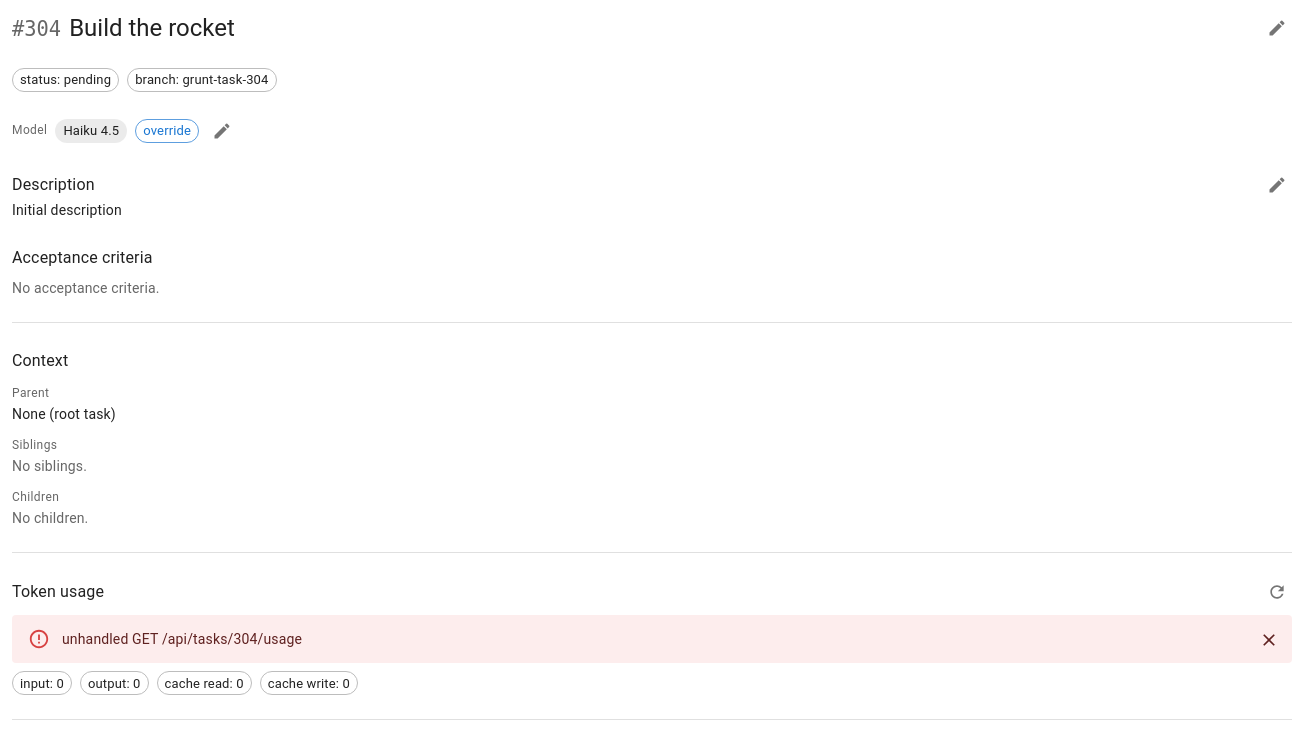
Scenario: TaskDetailPage › PATCHes model:null when the user clears the per-task override
The image size is (1304, 732).
Expected: the element with test id "task-detail-model-source" reads "override", x1=143 y1=123 x2=191 y2=138
Click the button named "edit model" at (222, 131), box x1=207 y1=116 x2=237 y2=146
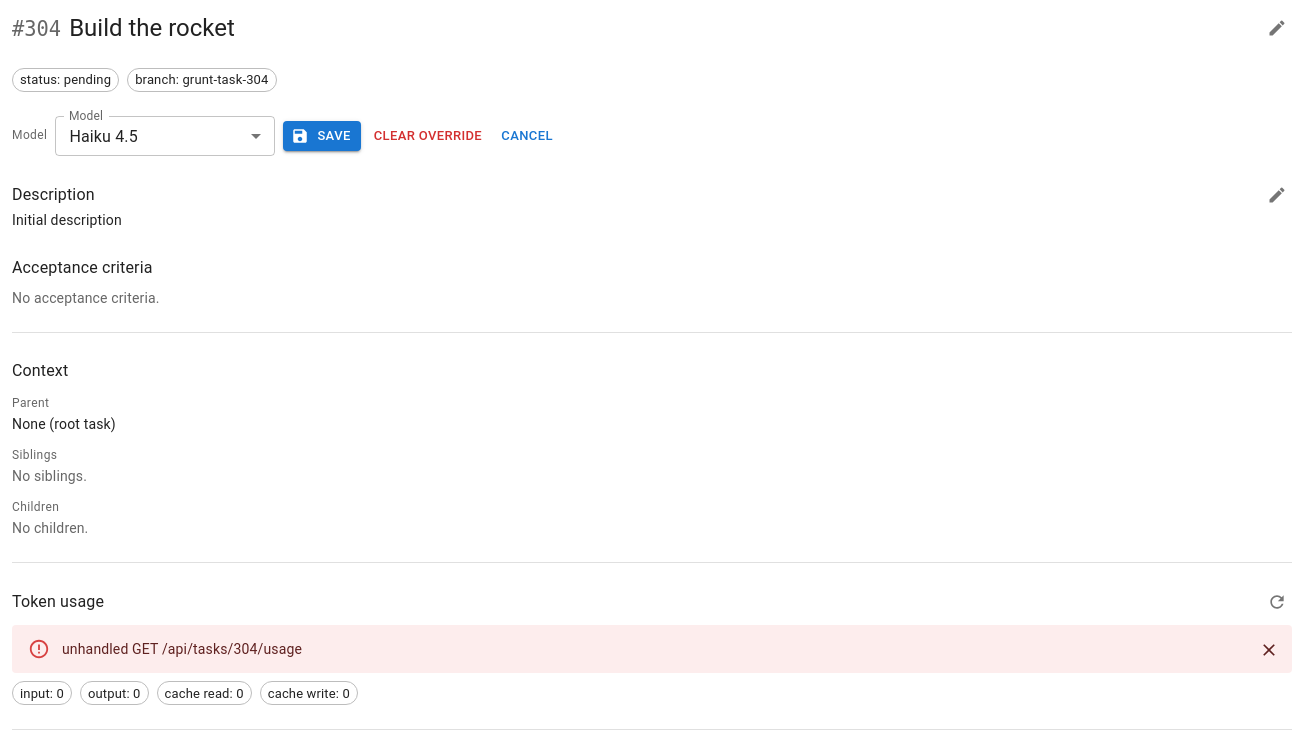
Click the button with test id "task-detail-model-clear" at (428, 136), box x1=369 y1=121 x2=487 y2=151
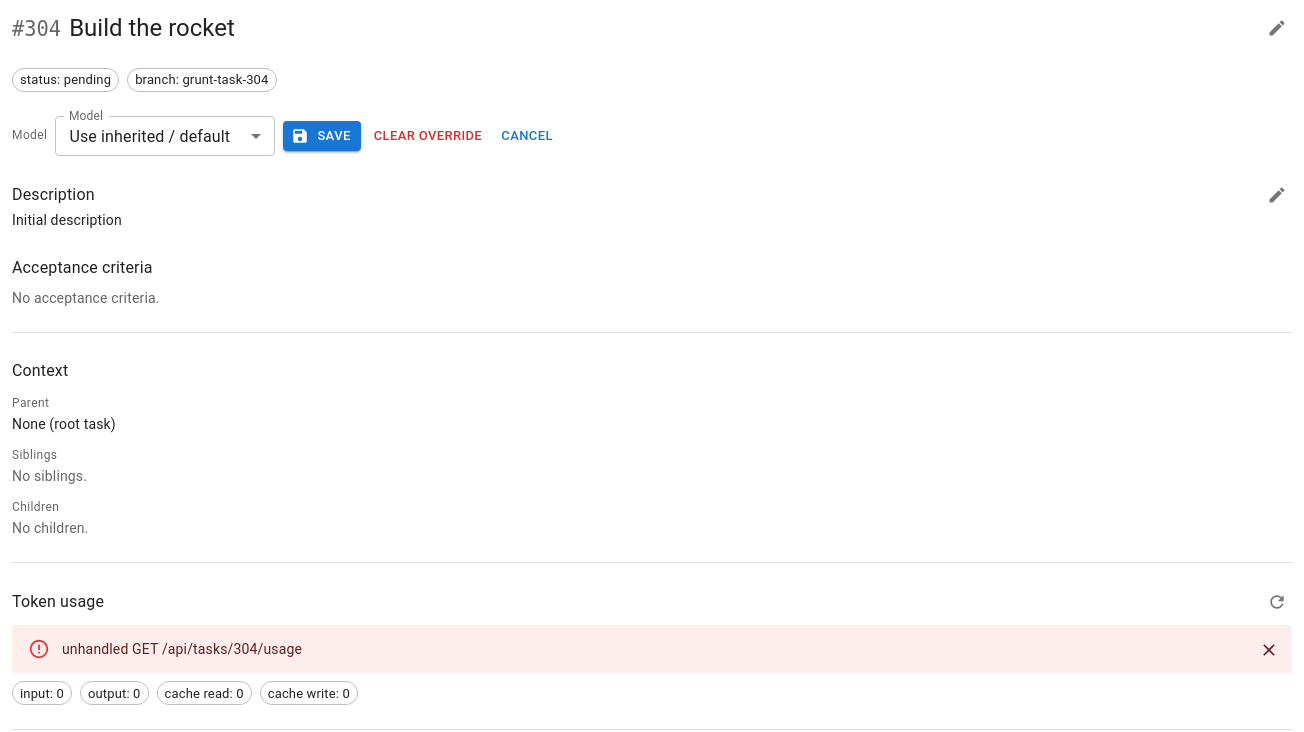
Click the button with test id "task-detail-model-save" at (322, 136), box x1=283 y1=121 x2=361 y2=151
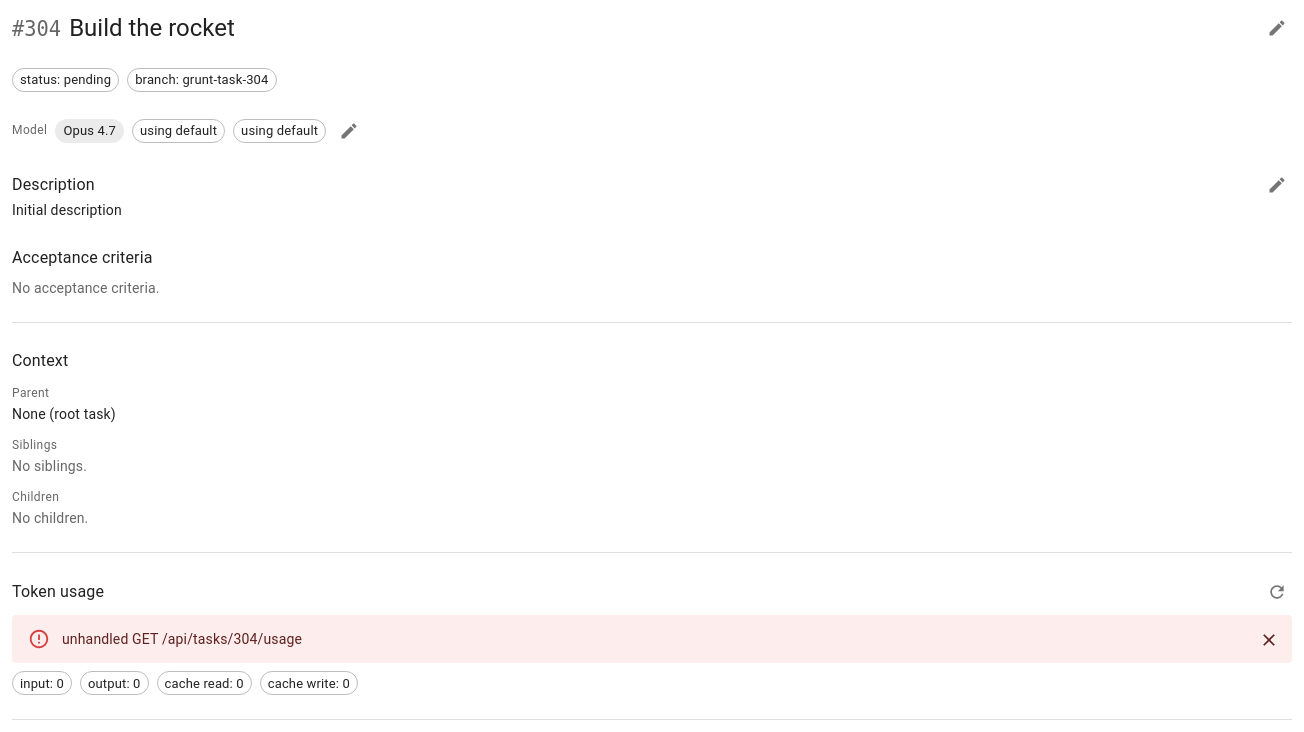
Result: the element with test id "task-detail-model-source" reads "using default" at x1=140 y1=123 x2=217 y2=138
Result: the element with test id "task-detail-model-default" is shown at x1=233 y1=119 x2=326 y2=143
